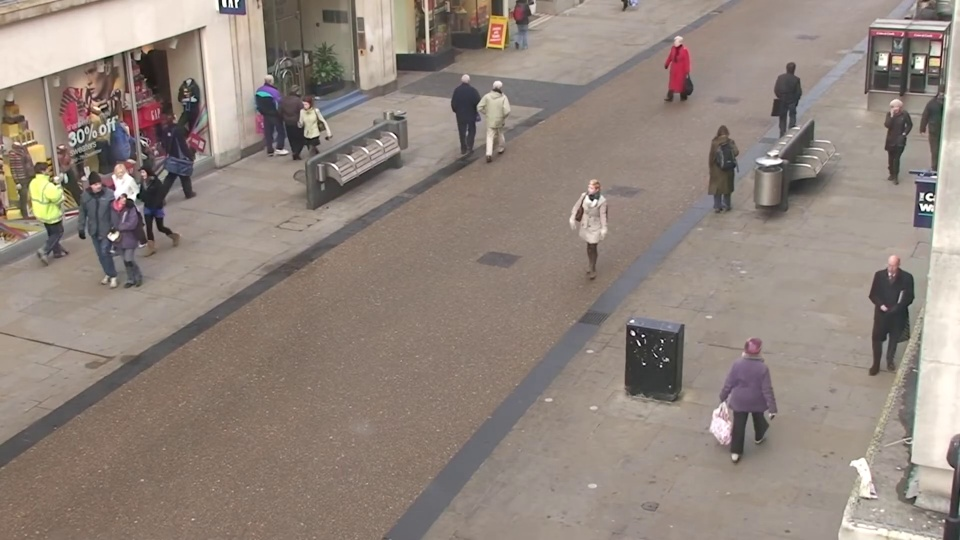pedestrian: (731, 321, 785, 471), (857, 256, 911, 390), (96, 188, 145, 300), (73, 176, 123, 285), (30, 152, 81, 256), (93, 160, 140, 265), (121, 161, 166, 267), (572, 181, 608, 295), (871, 100, 913, 194), (164, 104, 201, 194), (708, 119, 742, 216), (289, 95, 322, 184), (284, 79, 316, 163), (776, 59, 808, 141), (260, 70, 292, 151), (487, 72, 516, 156), (456, 70, 485, 153), (657, 36, 683, 110)
